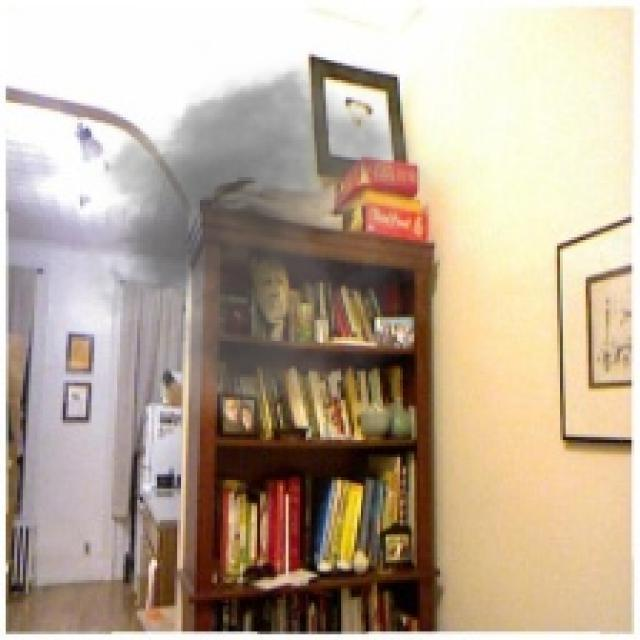Smoke: (57, 40, 483, 429)
